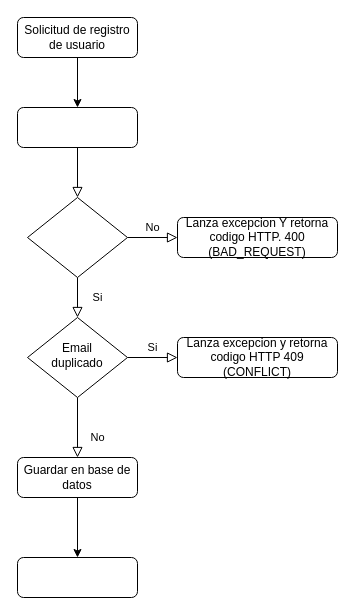
Image size: 355x615. Some labels were removed from this diagram. Each missing label, with the centre of its shape:
"Email y/o password valido" goes at pixel 77 237.
"Notifica registro creado" goes at pixel 77 577.
"Validacion de datos" goes at pixel 77 127.
